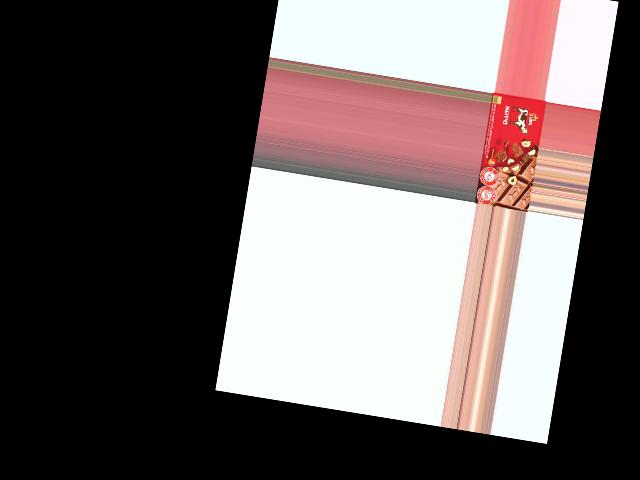chocolate: (476, 92, 545, 211)
